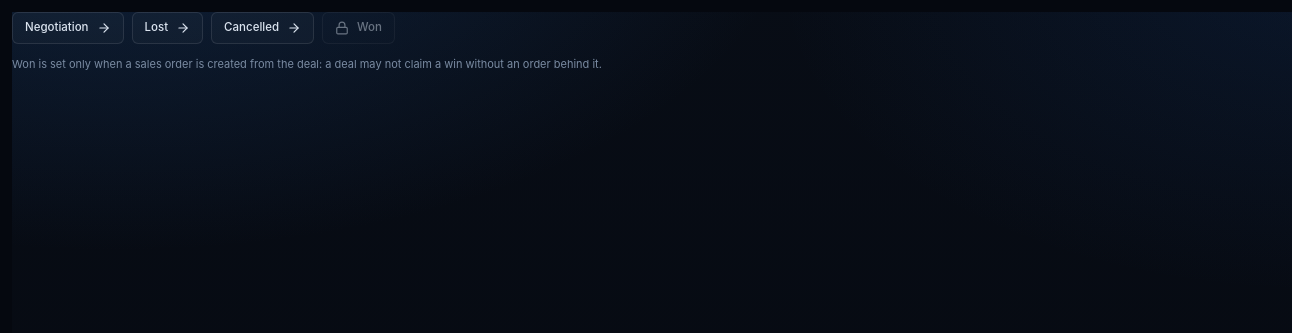
Scenario: TransitionPanel › sends the reason and If-Match version, then refreshes the page
Click the button "Lost" at x=167, y=28, box [132,12,203,44]
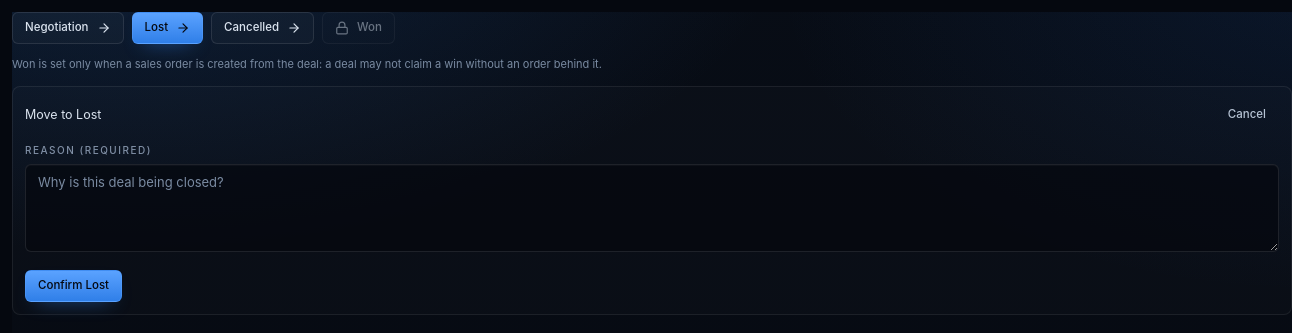
Type "Buyer withdrew budget" into the text box labelled "Reason (required)" at x=652, y=208, box [25,164,1279,252]
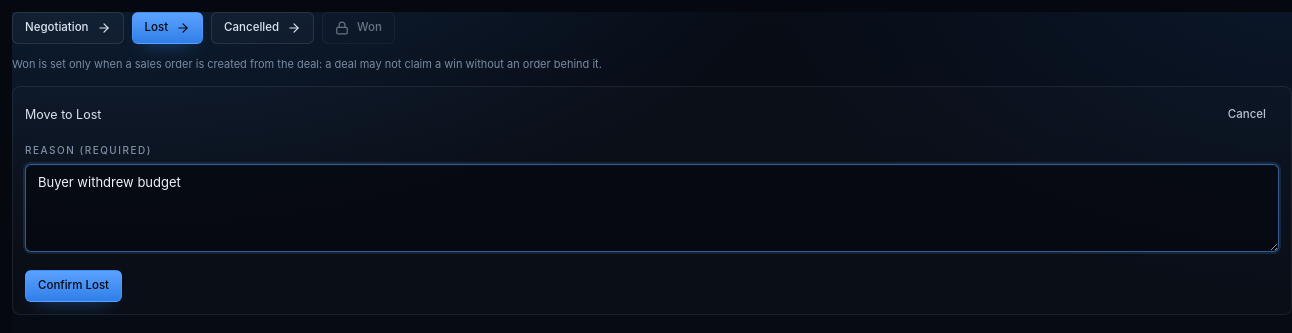
Click the button "Confirm Lost" at x=74, y=286, box [25,270,122,302]
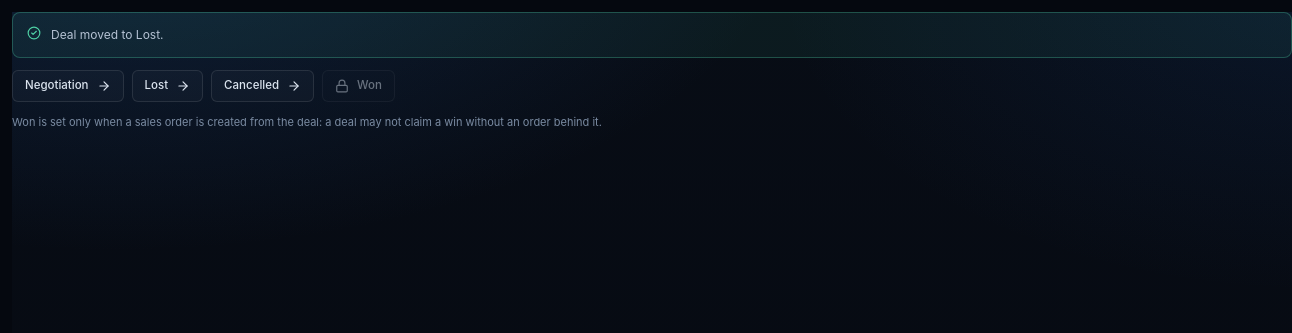
Expected: the text "Deal moved to Lost." is shown, [51,25,164,44]
